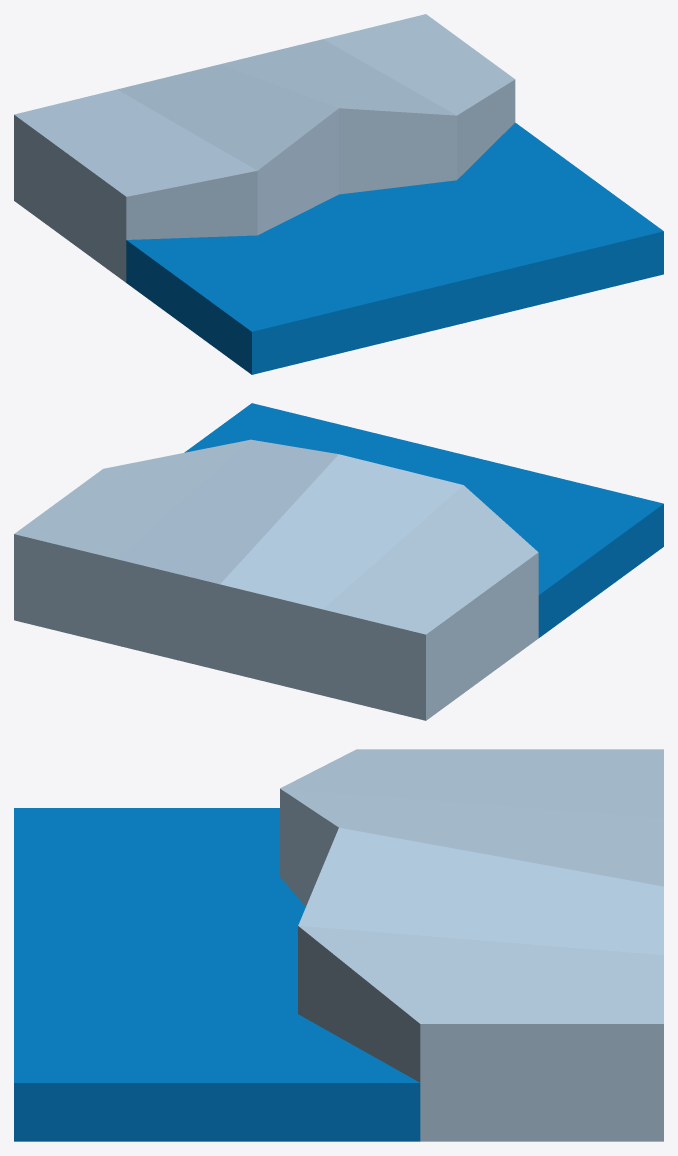
File: BrockenIceland.fbx
The picture shows the model from 3 angles, top to bottom: view 1: azimuth 30°, elevation 25°; view 2: azimuth 150°, elevation 25°; view 3: azimuth 270°, elevation 25°; orthographic projection. The views are drawn at different scales.
Visible parts, largest first — view 1: Cube, Cube.001; view 2: Cube, Cube.001; view 3: Cube, Cube.001.
Part boxes in pixels (x1,y1,x2,y2): Cube: [14, 14, 515, 282]; Cube.001: [126, 122, 663, 374]; Cube: [14, 439, 538, 720]; Cube.001: [184, 403, 663, 637]; Cube: [280, 749, 663, 1141]; Cube.001: [14, 808, 420, 1141].
Bounding box in the file's own units: 500 × 150 × 500.
